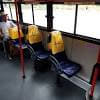seat: (48, 32, 85, 76)
